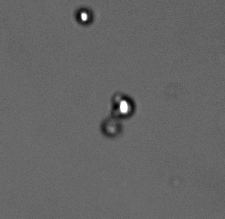Dead Cell: (102, 117, 120, 136)
Living Cell: (112, 94, 135, 117), (75, 7, 95, 25)
